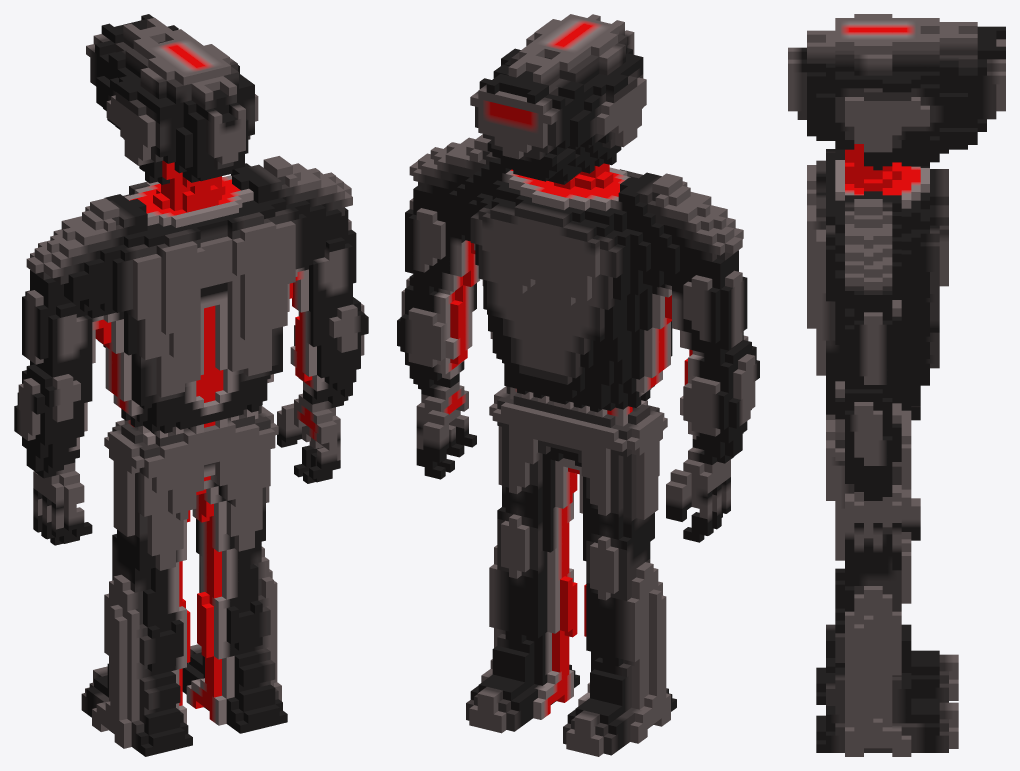
The model's file is ColortestRed.fbx.
The picture shows the model from 3 angles, left to right: view 1: azimuth 30°, elevation 25°; view 2: azimuth 150°, elevation 25°; view 3: azimuth 270°, elevation 25°; orthographic projection. The views are drawn at different scales.
Size of the model in its own units: 42 by 80 by 23.
1 material, 1 textured.
